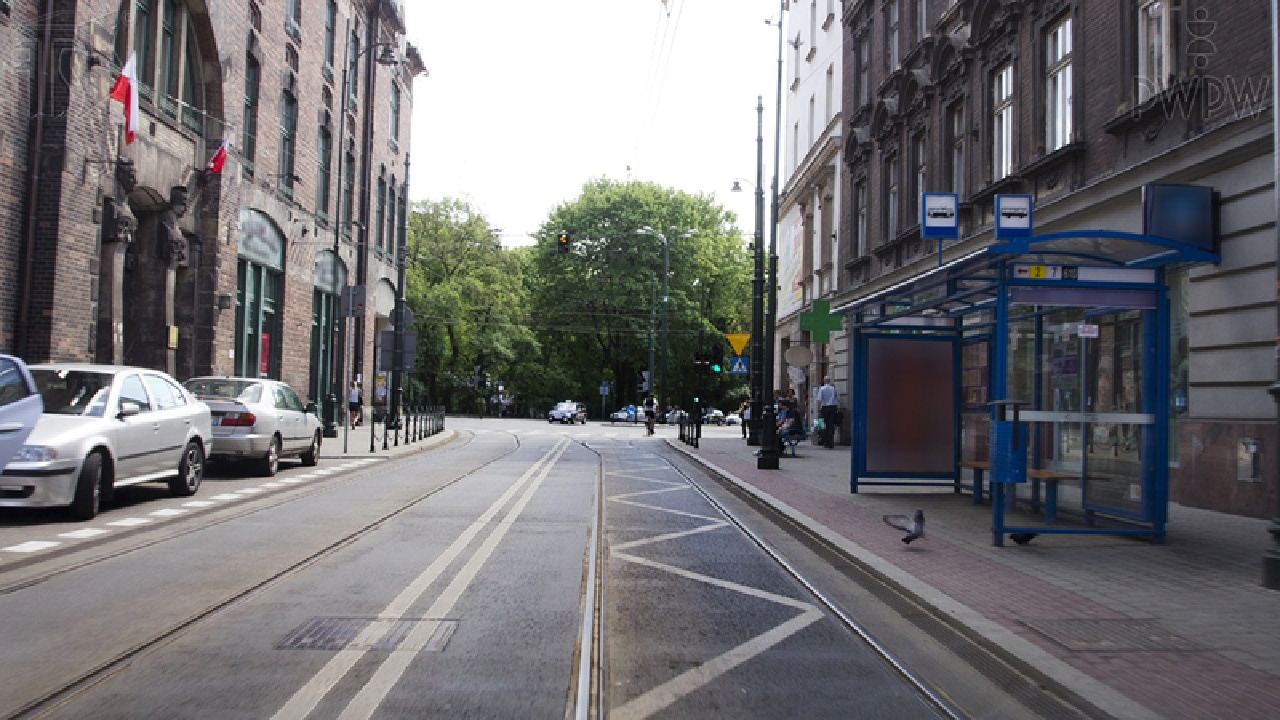A7: (725, 333, 752, 356)
Green: (713, 345, 722, 373)
